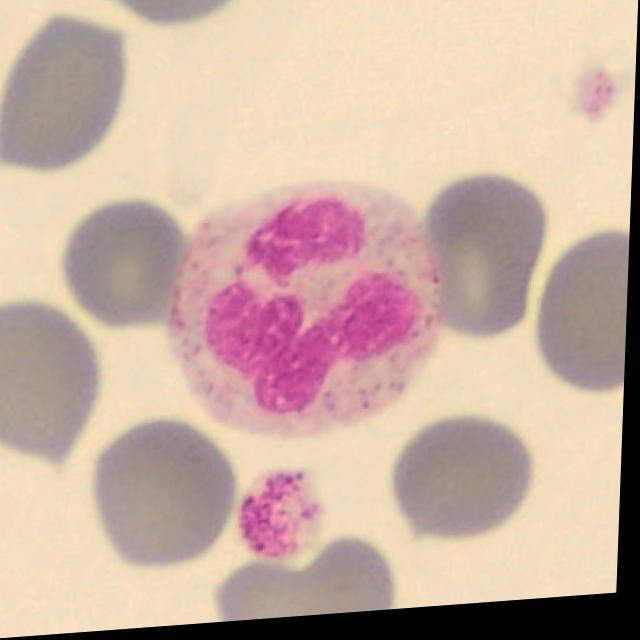Neutrofilo segmentado: (169, 186, 446, 447)
